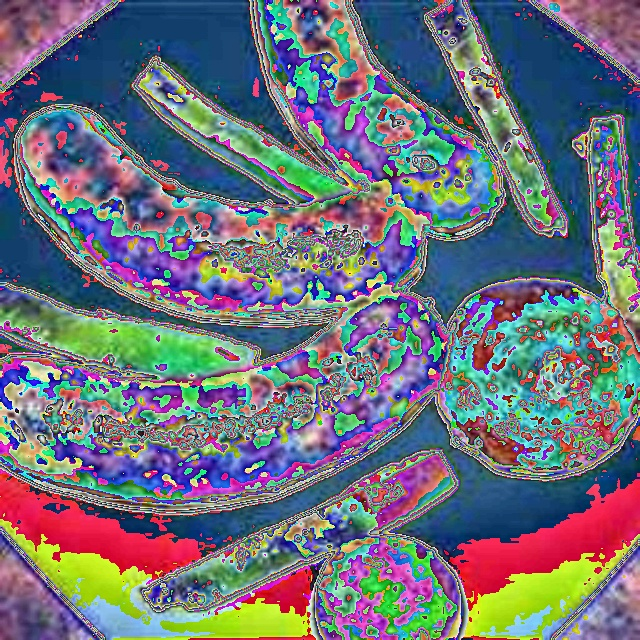background: (0, 0, 640, 510), (135, 192, 462, 639)
